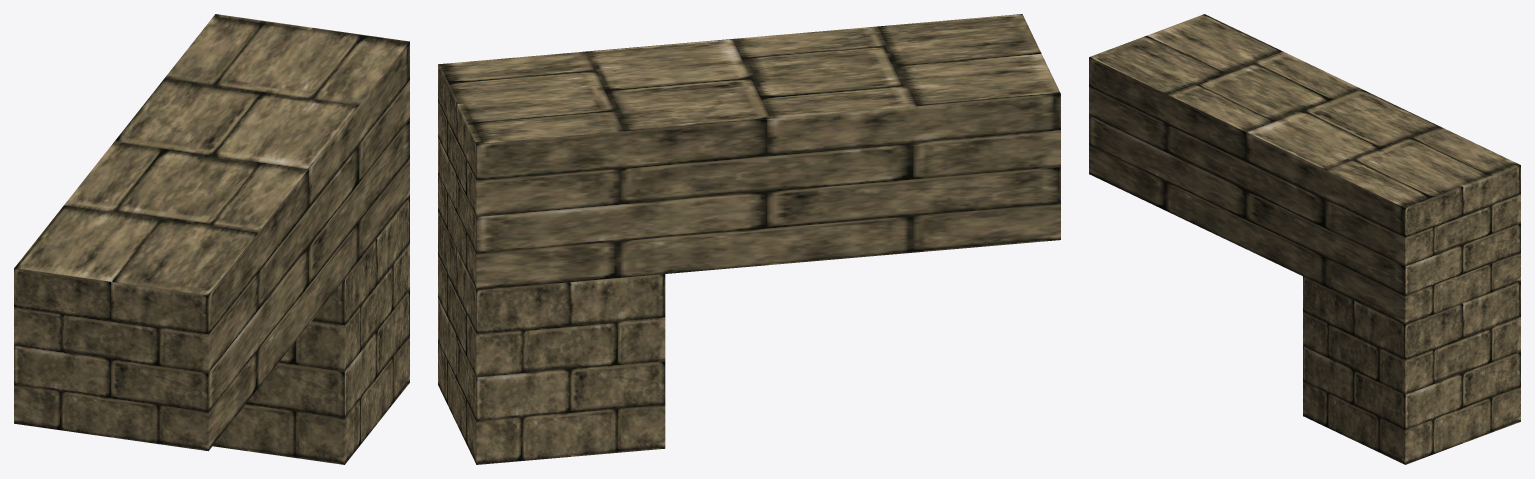
File: OVERHILL_A_01_TROLL AREA_PUSHBLOCK 10.fbx
3 renders of one model, left to right at view 1: azimuth 30°, elevation 25°; view 2: azimuth 150°, elevation 25°; view 3: azimuth 270°, elevation 25°, orthographic. The views are drawn at different scales.
Parts seen in each view (by area): view 1: OVERHILL_A_01_TROLL AREA_PUSHBLOCK 10; view 2: OVERHILL_A_01_TROLL AREA_PUSHBLOCK 10; view 3: OVERHILL_A_01_TROLL AREA_PUSHBLOCK 10.
Boxes of the visible parts, <box> form: OVERHILL_A_01_TROLL AREA_PUSHBLOCK 10: <box>14,14,409,464</box>; OVERHILL_A_01_TROLL AREA_PUSHBLOCK 10: <box>438,14,1060,464</box>; OVERHILL_A_01_TROLL AREA_PUSHBLOCK 10: <box>1089,14,1520,464</box>.
Bounding box in the file's own units: 29799 × 18371 × 27991.
Materials: 1 (1 with a texture image).
